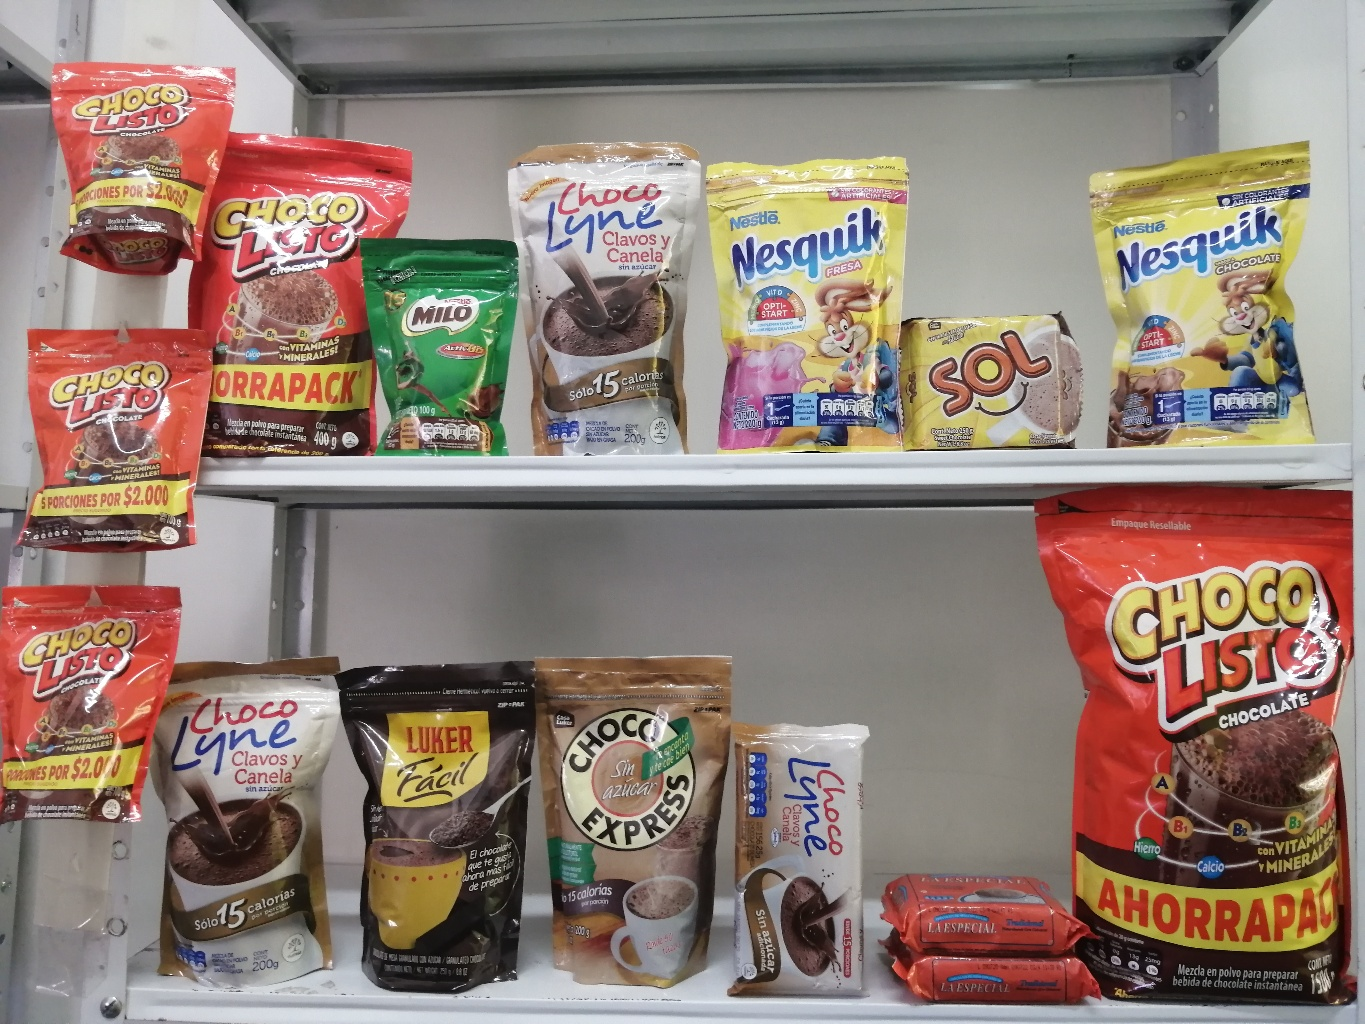COL0170103DYP1,500: (1036, 485, 1363, 1009)
COL0170103DYP10000: (51, 60, 237, 276)
COL0170103DYP40000: (200, 124, 414, 459)
COL0170203DYP10000: (359, 234, 518, 460)
COL0170303DYP20000: (1086, 159, 1330, 446)
COL0170305DYP20000: (703, 158, 909, 453)
